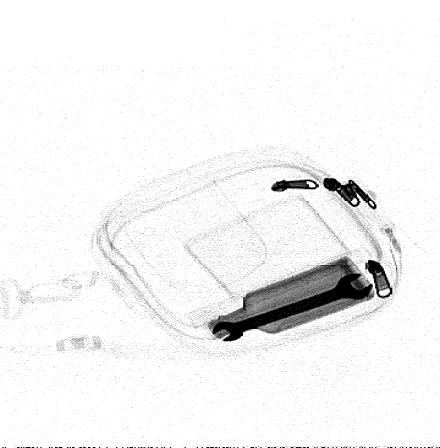Wrench: (211, 272, 375, 342)
